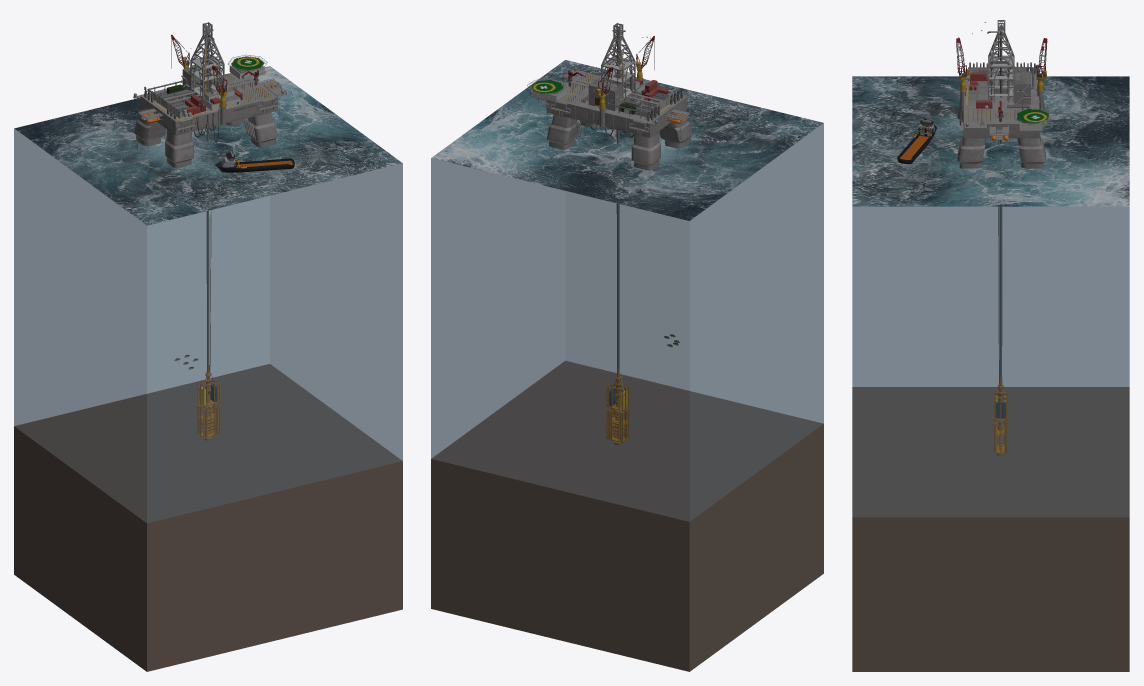
File: oil_platform.glb
The picture shows the model from 3 angles, left to right: view 1: azimuth 30°, elevation 25°; view 2: azimuth 150°, elevation 25°; view 3: azimuth 270°, elevation 25°; orthographic projection. The views are drawn at different scales.
Parts seen in each view (by area): view 1: Plane006, Plane005, Plane004, Barge, BOP, Box002_Boat_0, Drill_Pipe; view 2: Plane006, Plane005, Plane004, Barge, BOP; view 3: Plane006, Plane005, Plane004, Barge, BOP, Box002_Boat_0, Drill_Pipe.
Boxes of the visible parts, box(x1,y1,x2,y2) form: Plane006: box(14, 128, 402, 523); Plane005: box(14, 364, 402, 671); Plane004: box(14, 66, 402, 225); Barge: box(133, 22, 286, 167); BOP: box(197, 365, 220, 440); Box002_Boat_0: box(215, 151, 294, 172); Drill_Pipe: box(206, 127, 209, 365); Plane006: box(431, 123, 823, 521); Plane005: box(431, 360, 823, 671); Plane004: box(431, 60, 823, 220); Barge: box(527, 23, 692, 170); BOP: box(606, 369, 629, 445); Plane006: box(852, 206, 1129, 516); Plane005: box(852, 387, 1129, 671); Plane004: box(852, 76, 1129, 206); Barge: box(956, 20, 1052, 175); BOP: box(993, 377, 1007, 455); Box002_Boat_0: box(897, 119, 936, 164); Drill_Pipe: box(999, 140, 1002, 377).
Bounding box in the file's own units: 63.34 × 135 × 56.98.
Materials: 21 (13 with a texture image).
